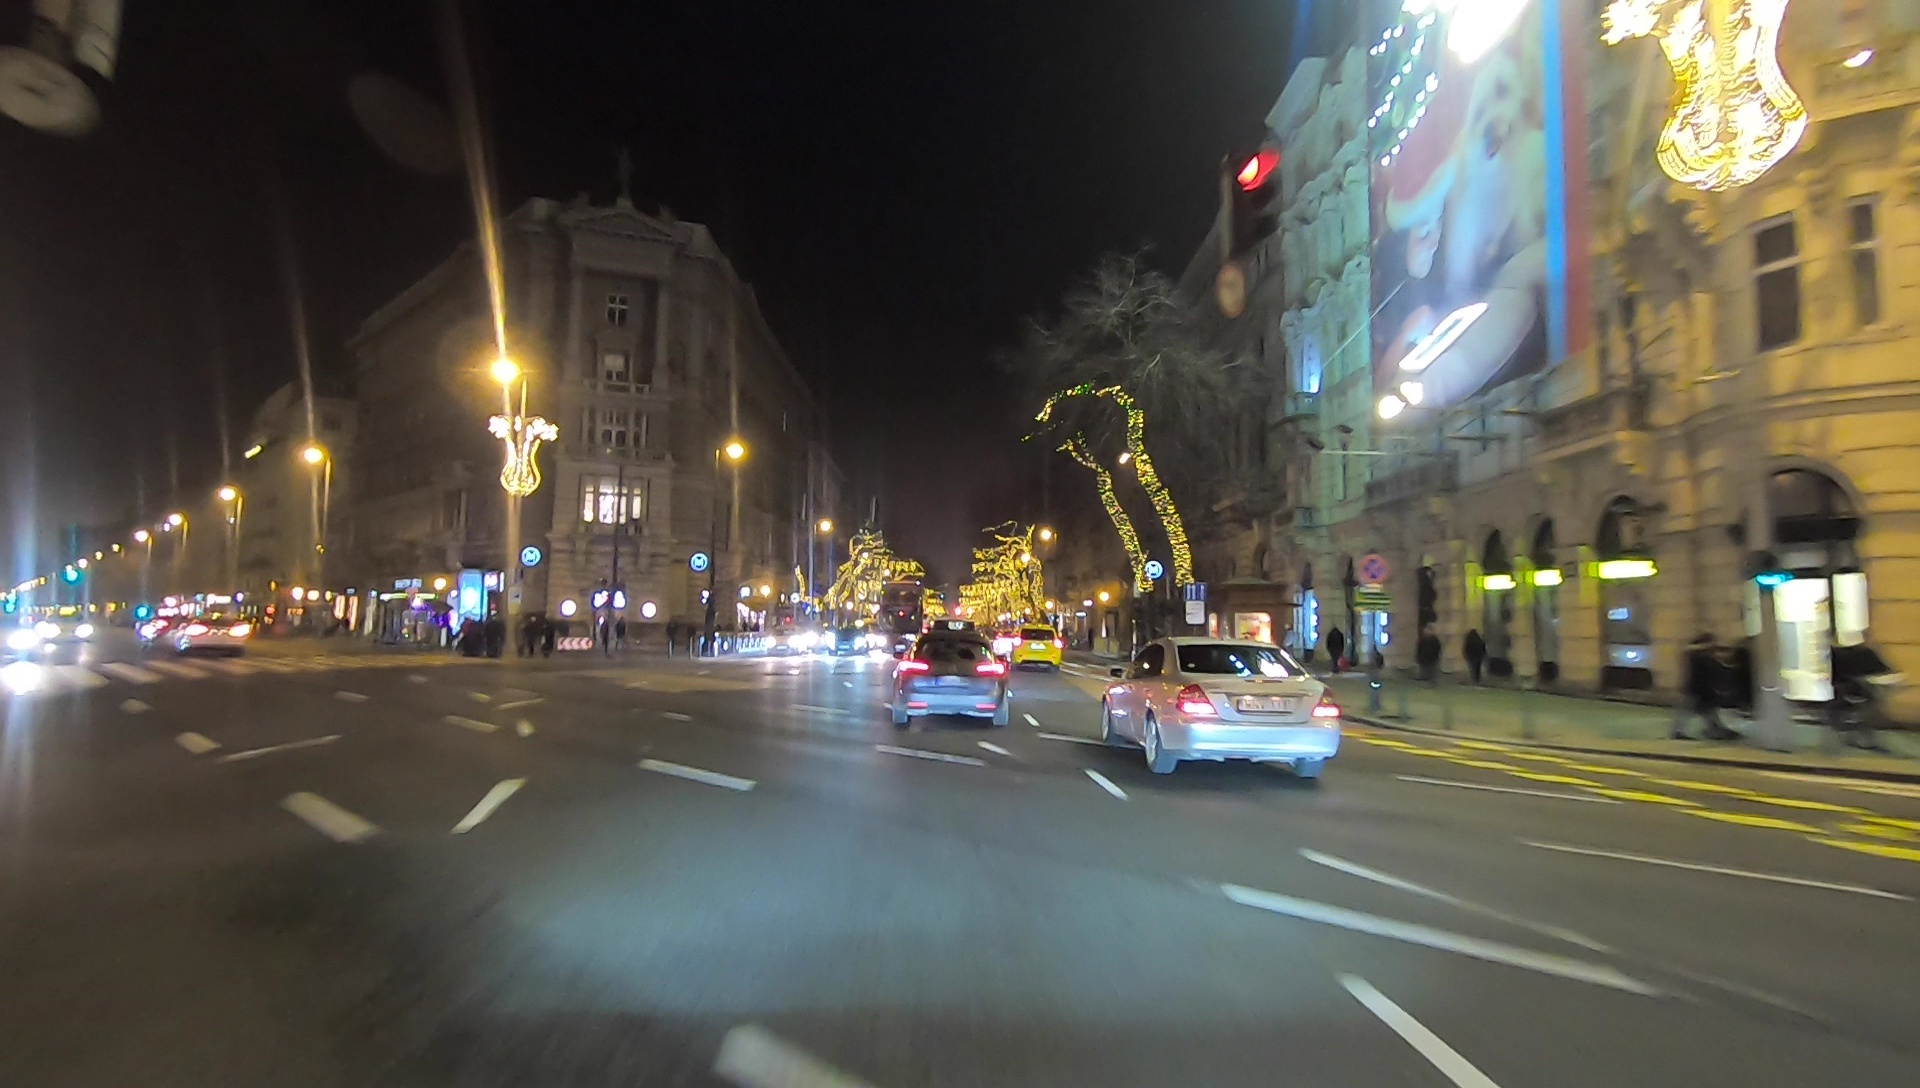person: (1823, 637, 1886, 760), (1678, 637, 1723, 747), (1462, 630, 1488, 678), (1419, 628, 1441, 680), (1326, 626, 1347, 673)
